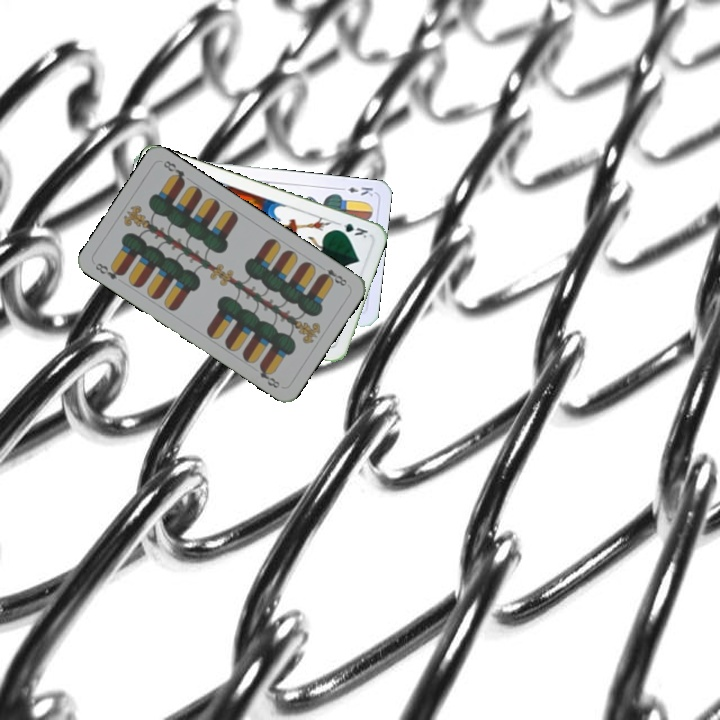E8: (91, 259, 127, 282), (316, 265, 350, 289)
EK: (335, 183, 375, 199)
GK: (331, 219, 371, 241)
